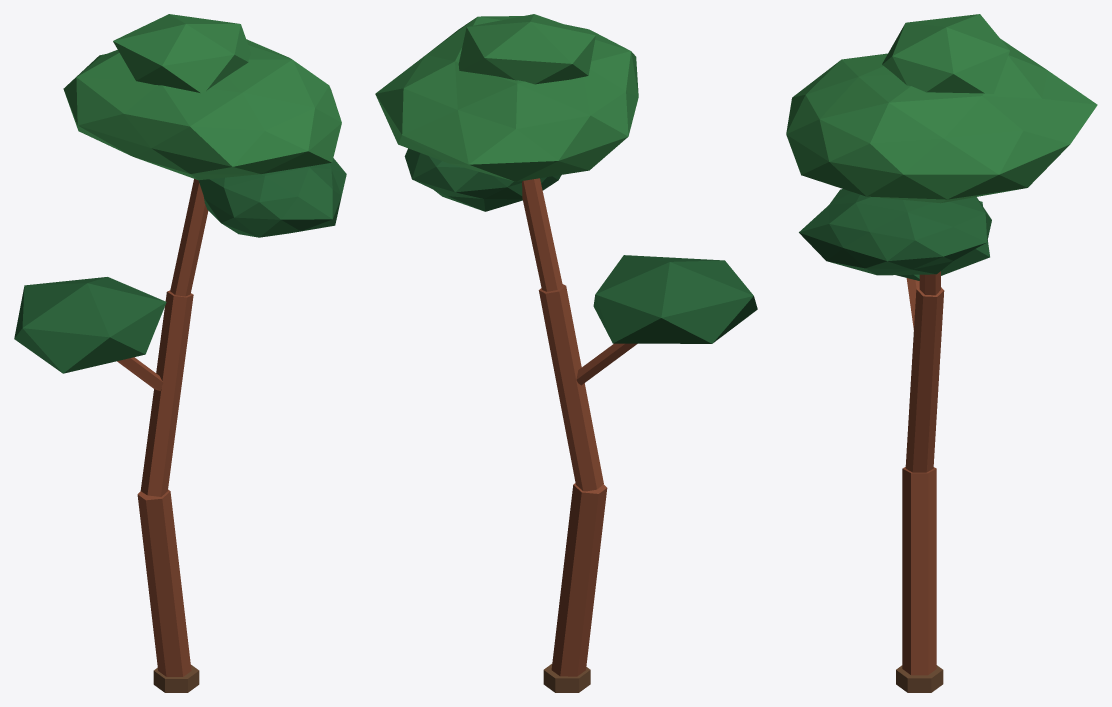
The model's file is tree_pine_b.glb.
3 views of the same model, side by side, from view 1: azimuth 30°, elevation 25°; view 2: azimuth 150°, elevation 25°; view 3: azimuth 270°, elevation 25° (orthographic). The views are drawn at different scales.
Parts seen in each view (by area): view 1: tree_pine_b; view 2: tree_pine_b; view 3: tree_pine_b.
Boxes of the visible parts, left/top/right/bottom form: tree_pine_b: left=14, top=14, right=346, bottom=692; tree_pine_b: left=375, top=14, right=757, bottom=692; tree_pine_b: left=786, top=14, right=1097, bottom=692.
Size of the model in its own units: 3.59 by 6.88 by 2.9.
